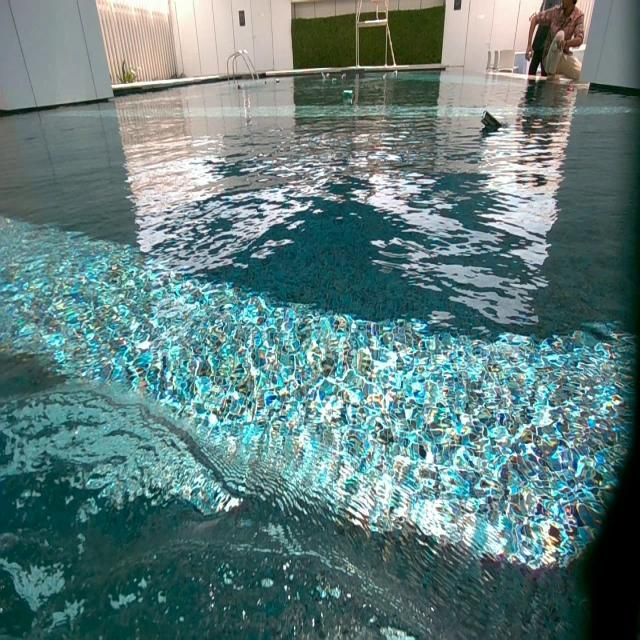Cans: (483, 110, 503, 129), (343, 91, 354, 101), (236, 82, 243, 90), (567, 87, 574, 95), (322, 73, 328, 80), (244, 119, 250, 126), (332, 78, 338, 84), (276, 78, 281, 85), (341, 73, 345, 81), (265, 80, 270, 86), (393, 72, 398, 77)
